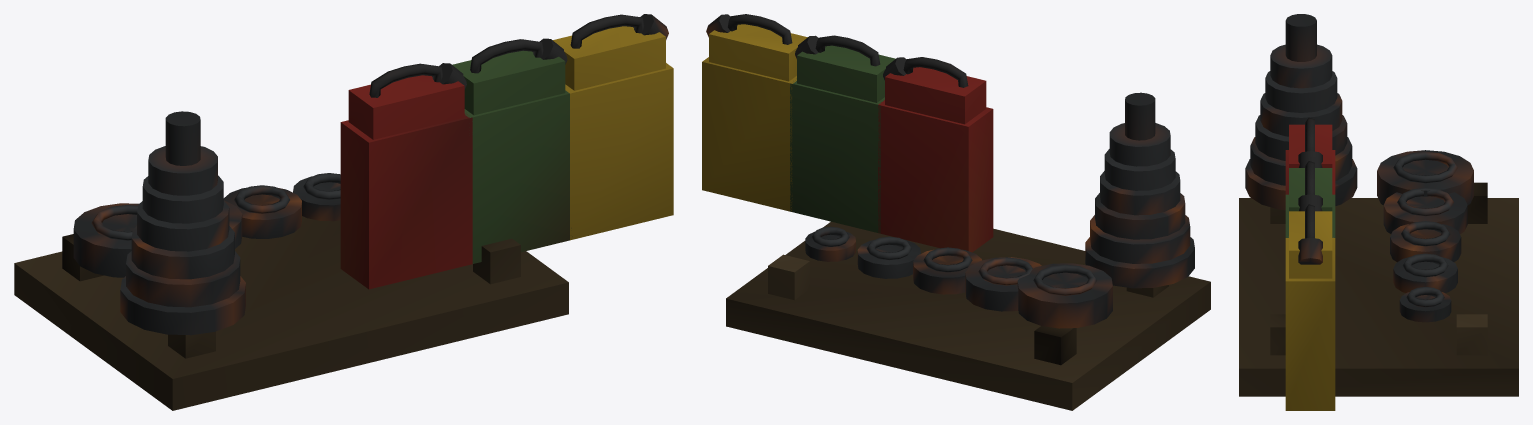
Rendered from weights-and-cans.glb.
3 views of the same model, side by side, from view 1: azimuth 30°, elevation 25°; view 2: azimuth 150°, elevation 25°; view 3: azimuth 270°, elevation 25° (orthographic). The views are drawn at different scales.
Visible parts, largest first — view 1: weights; view 2: weights; view 3: weights.
Boxes of the visible parts, box(x1,y1,x2,y2) form: weights: box(14, 14, 673, 410); weights: box(702, 14, 1210, 410); weights: box(1239, 14, 1518, 410).
Bounding box in the file's own units: 1.78 × 0.8 × 0.9.
